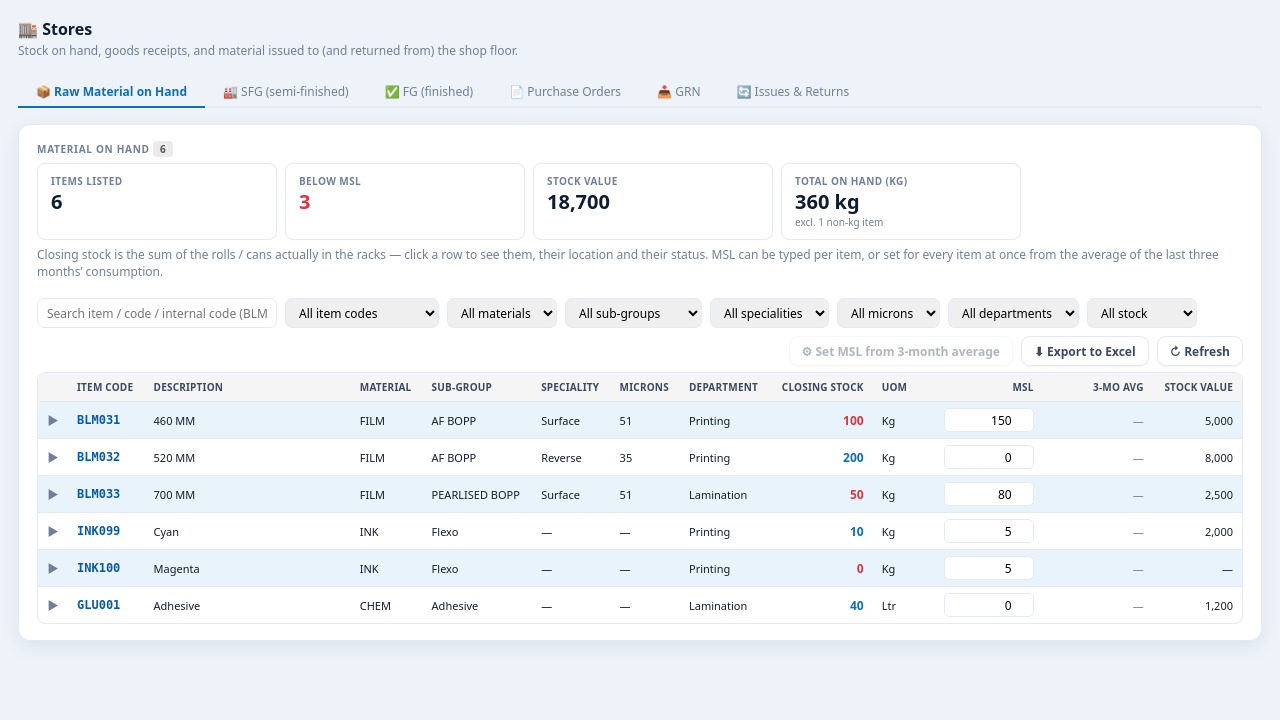
Material on Hand — filters, search and the figures above them › clearing a filter puts everything back
Select "INK" in the dropdown named "Filter by material" at (502, 313), box [447,298,557,328]
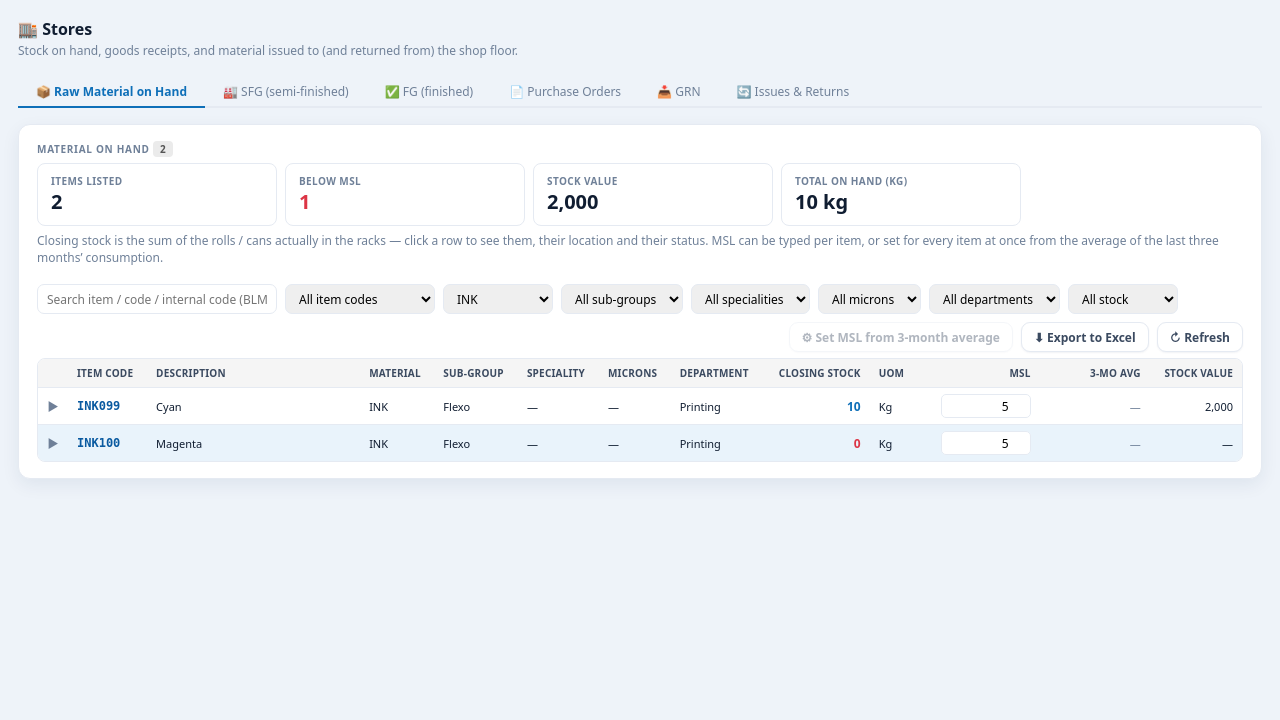
Select "All materials" in the dropdown named "Filter by material" at (498, 299), box [443,284,553,314]
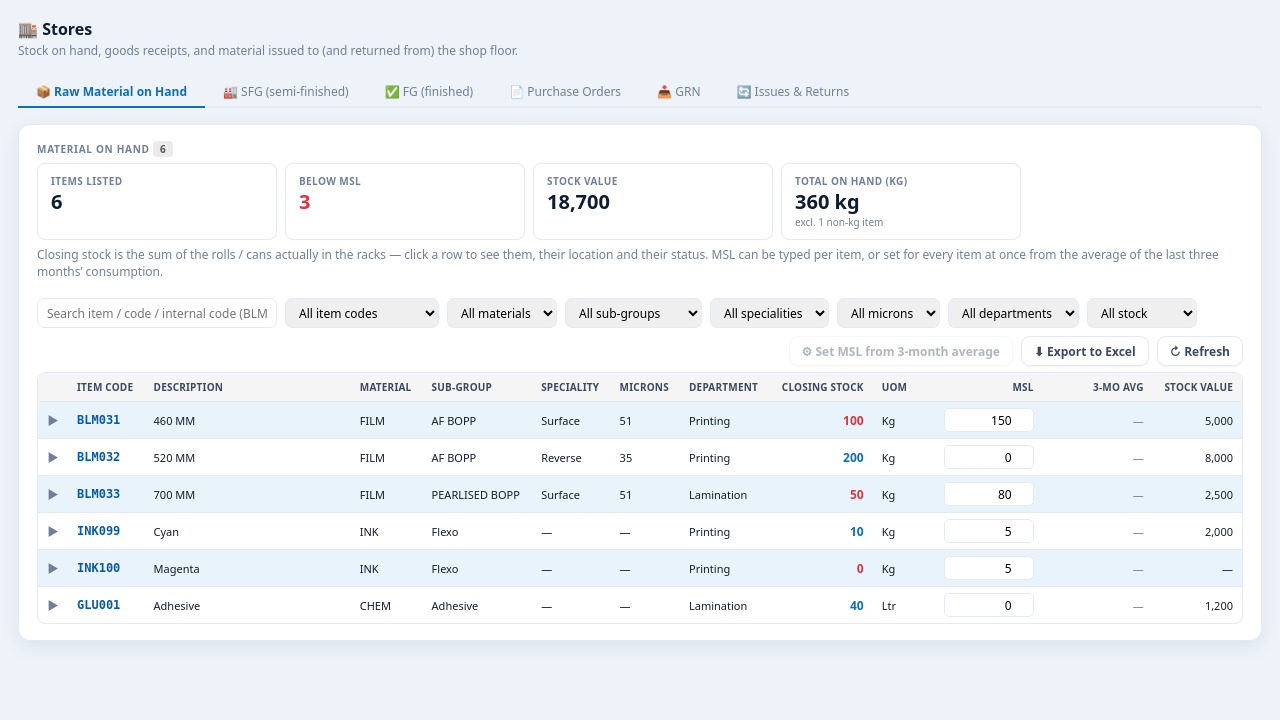
Result: the text "6" below "Items listed" is shown at [51,188,62,215]
Result: the text "18,700" is shown at [547,188,610,215]
